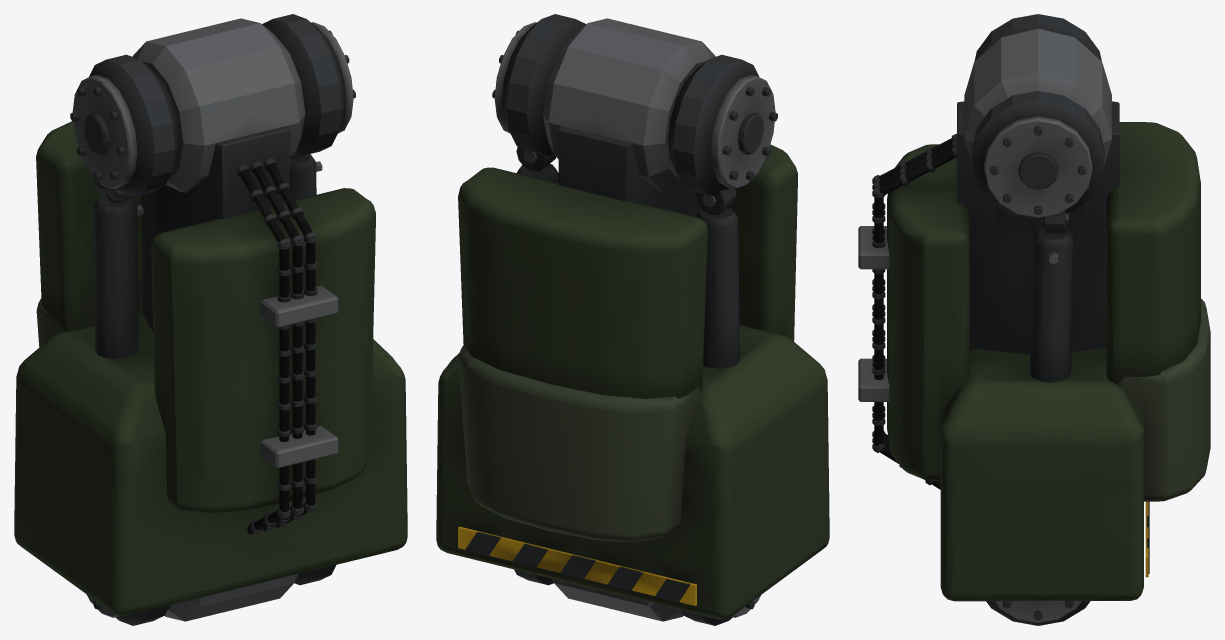
Rendered from bastion.forearm.glb.
3 renders of one model, left to right at view 1: azimuth 30°, elevation 25°; view 2: azimuth 150°, elevation 25°; view 3: azimuth 270°, elevation 25°, orthographic. The views are drawn at different scales.
Size of the model in its own units: 9.87 by 18.11 by 10.72.
